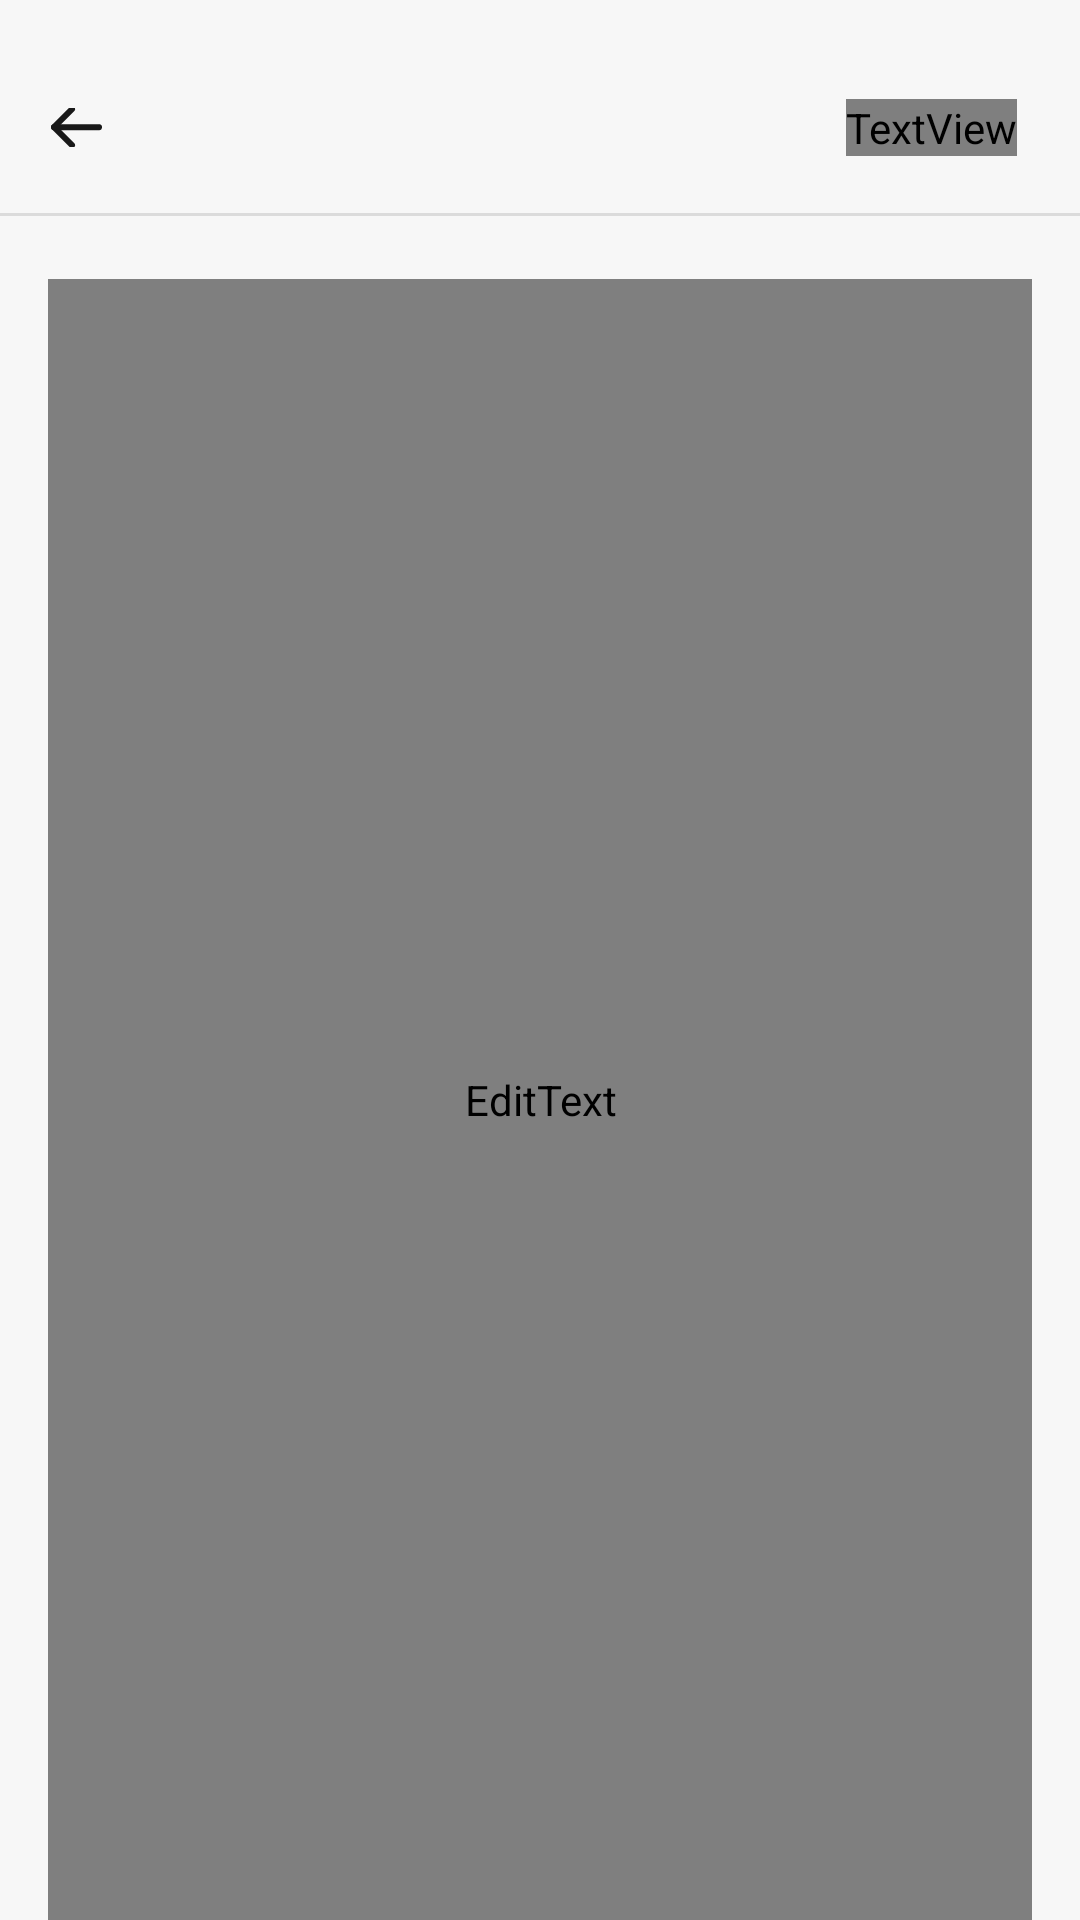

Icon bounding boxes for this 1080*1920 phone screenshot, format (left=x1, top=y1, right=x2, bottom=y2):
exit: (left=51, top=108, right=102, bottom=147)
